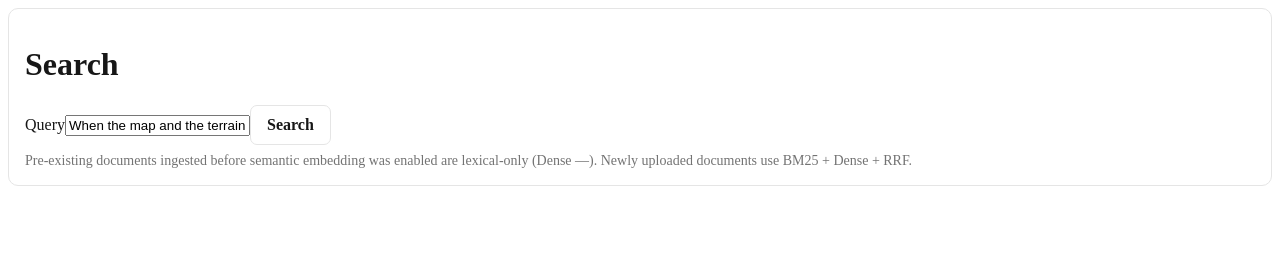
Test: SearchPage error states › shows the index-updating banner on a 503 instead of a red error
This screenshot has width=1280, height=253.
Click the button "Search" at [290, 125], box [250,105,331,145]
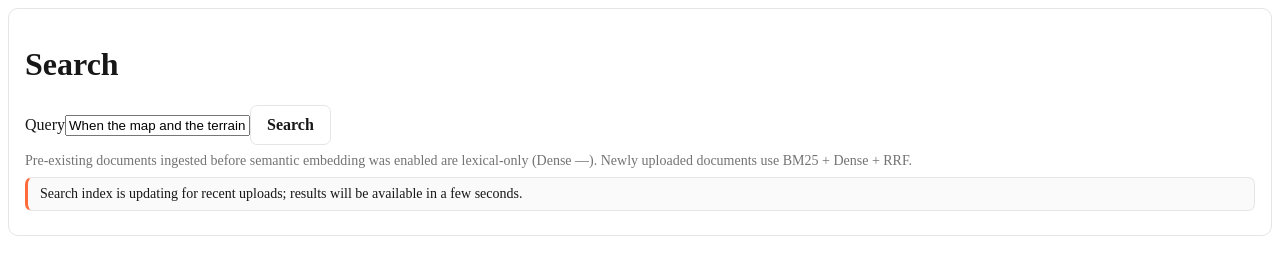
Expected: the text "index is updating" is shown, [40,186,522,201]
